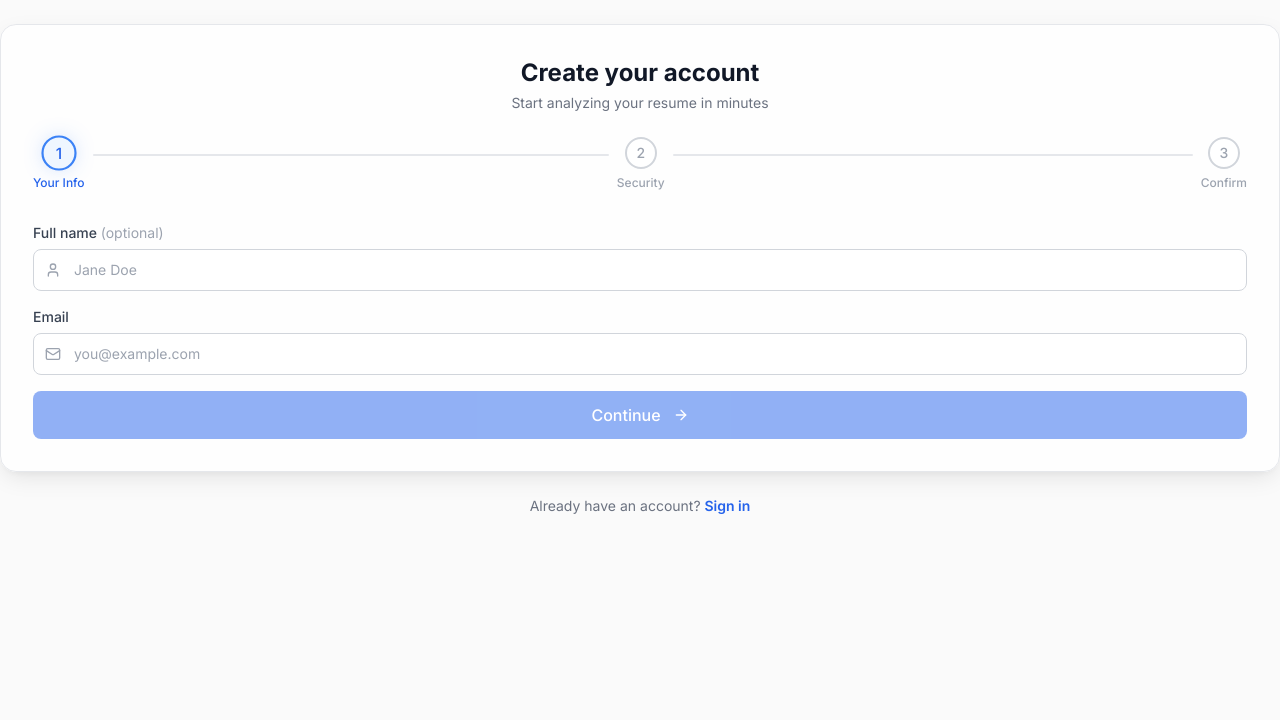
it: RegisterPage › advances to step 2 when email is valid
Type "test@example.com" into the field with placeholder "you@example.com" at (640, 354), box [33,333,1247,375]
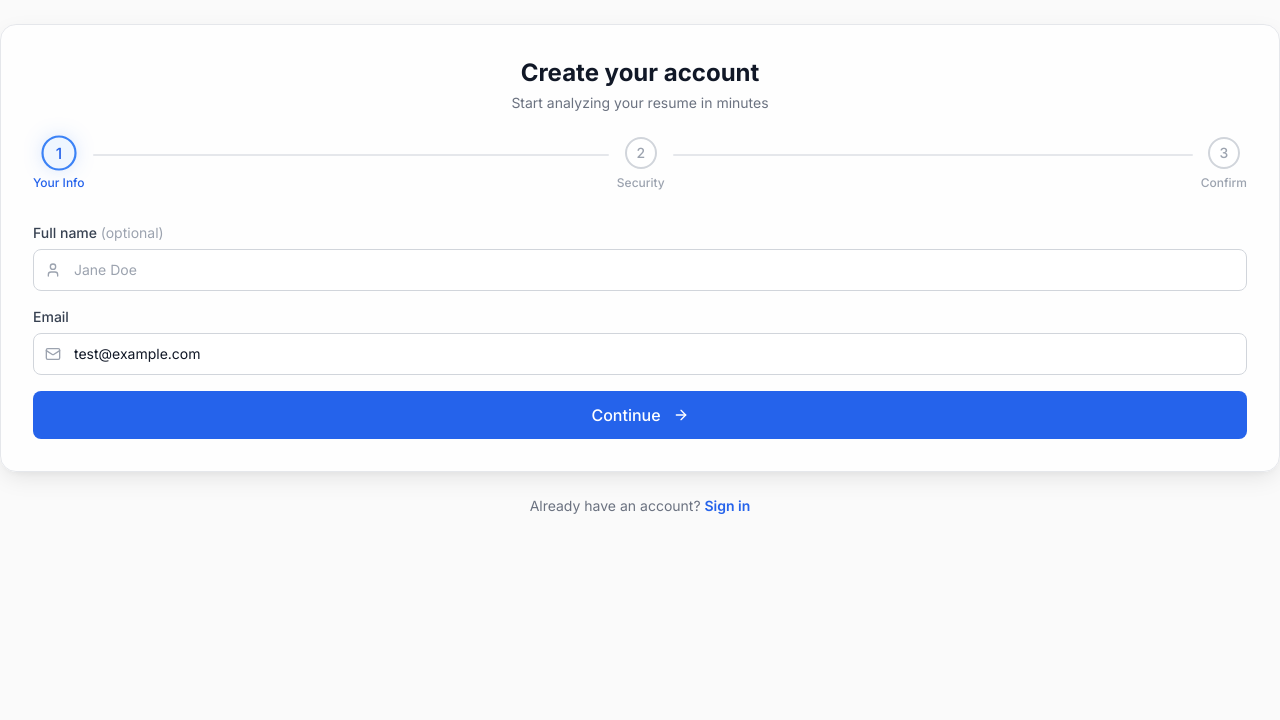
Click the button "Continue" at (640, 415), box [33,391,1247,439]
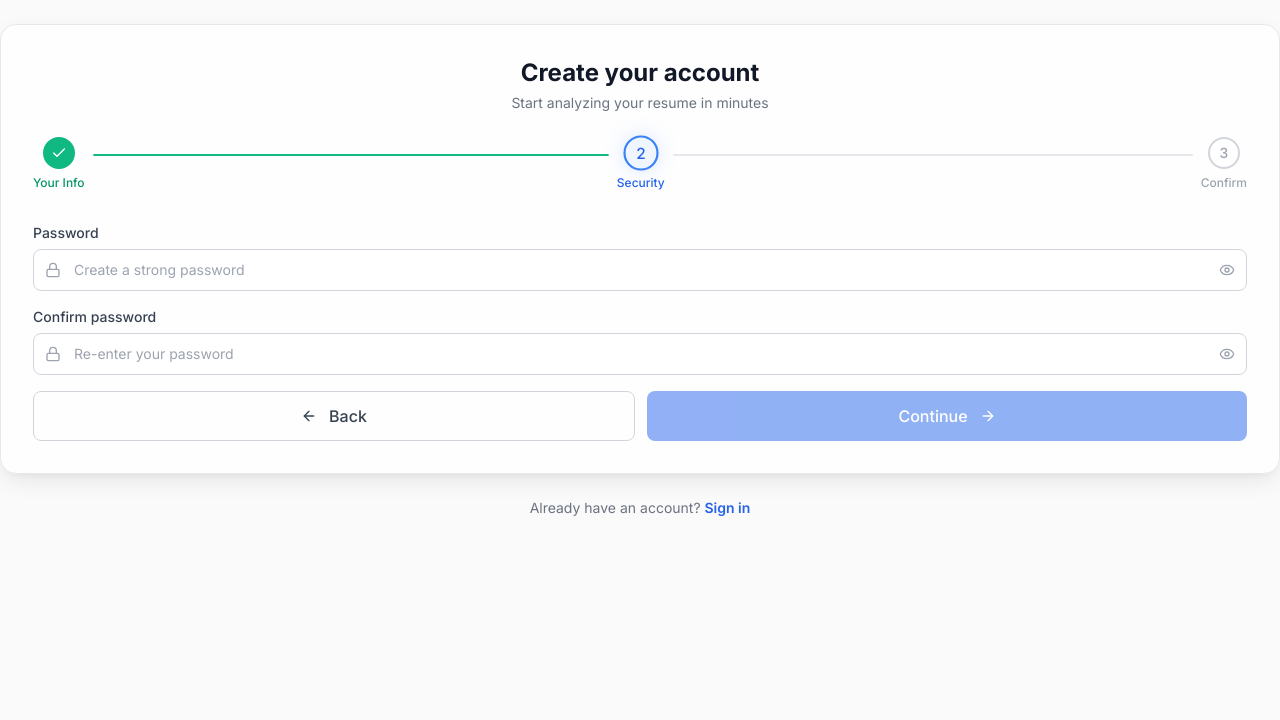
Expected: the element with test id "step-security" is shown, [33,223,1247,441]
Expected: the password field with placeholder "Create a strong password" is shown, [33,249,1247,291]
Expected: the password field with placeholder "Re-enter your password" is shown, [33,333,1247,375]
